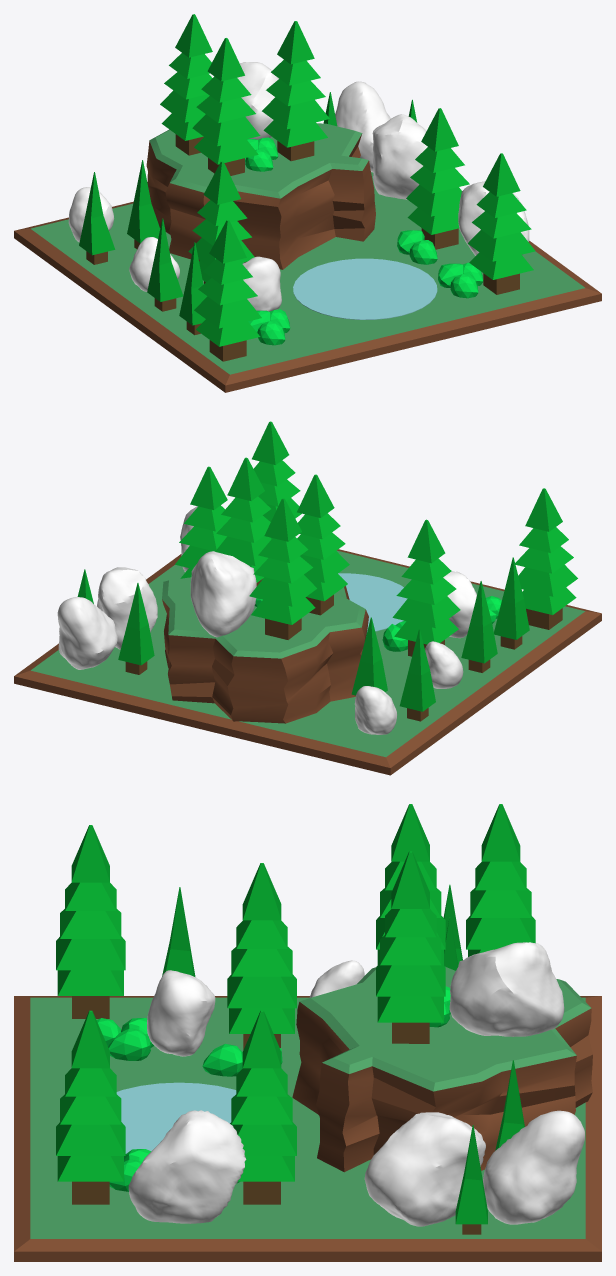
File: jungle.glb
The picture shows the model from 3 angles, top to bottom: view 1: azimuth 30°, elevation 25°; view 2: azimuth 150°, elevation 25°; view 3: azimuth 270°, elevation 25°; orthographic projection. The views are drawn at different scales.
Visible parts, largest first — view 1: Ground, Clif, Pond, Cube.008, Cube.007, Cube.011, Cube.010, Cube.006, Cube.012, rock.002, Cube.005, rock.003 (+12 smaller); view 2: Ground, Clif, Cube.012, Cube.008, Cube.005, rock.006, Cube.010, Cube.011, rock.003, Cube.006, rock.002, Cube.007 (+10 smaller); view 3: Ground, Clif, rock.004, Cube.007, Cube.011, Cube.008, rock.002, rock.006, Cube.006, rock.003, Cube.005, Cube.012 (+9 smaller).
Boxes of the visible parts, x1,y1,x2,y2 form: Ground: (14, 172, 601, 392); Clif: (146, 123, 375, 269); Pond: (293, 258, 437, 319); Cube.008: (194, 220, 261, 361); Cube.007: (468, 153, 535, 294); Cube.011: (262, 21, 329, 161); Cube.010: (192, 38, 260, 175); Cube.006: (406, 108, 469, 249); Cube.012: (160, 14, 212, 155); rock.002: (372, 114, 427, 199); Cube.005: (188, 161, 254, 283); rock.003: (335, 81, 390, 172); Ground: (14, 549, 601, 775); Clif: (162, 577, 368, 723); Cube.012: (249, 498, 316, 639); Cube.008: (515, 488, 577, 629); Cube.005: (392, 519, 460, 656); rock.006: (190, 551, 256, 637); Cube.010: (297, 474, 349, 615); Cube.011: (215, 457, 271, 586); rock.003: (57, 597, 117, 669); Cube.006: (175, 466, 230, 578); rock.002: (97, 567, 157, 649); Cube.007: (252, 421, 301, 538); Ground: (14, 996, 601, 1261); Clif: (292, 966, 592, 1172); rock.004: (128, 1110, 246, 1223); Cube.007: (56, 1010, 125, 1204); Cube.011: (376, 851, 445, 1043); Cube.008: (56, 825, 125, 1018); rock.002: (364, 1112, 485, 1226); rock.006: (449, 942, 564, 1036); Cube.006: (230, 1010, 296, 1204); rock.003: (483, 1110, 584, 1224); Cube.005: (227, 863, 296, 1049); Cube.012: (466, 804, 535, 956).
Bounding box in the file's own units: 3.58 × 1.96 × 3.48.
Materials: 7 (2 with a texture image).
